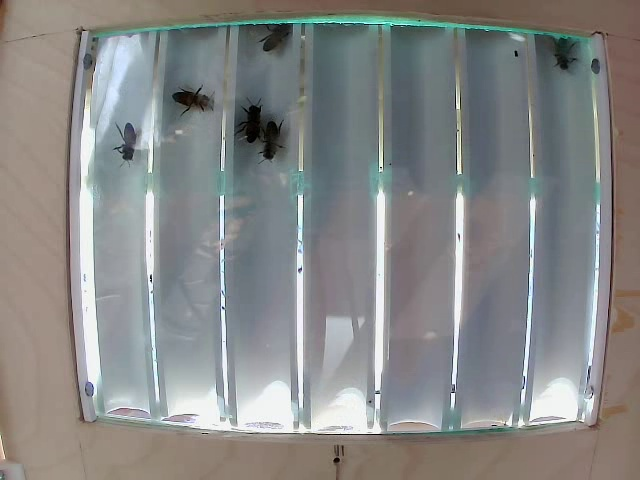bee: (114, 114, 139, 168), (165, 82, 204, 112), (262, 22, 295, 51), (240, 107, 265, 140), (263, 124, 281, 161)
